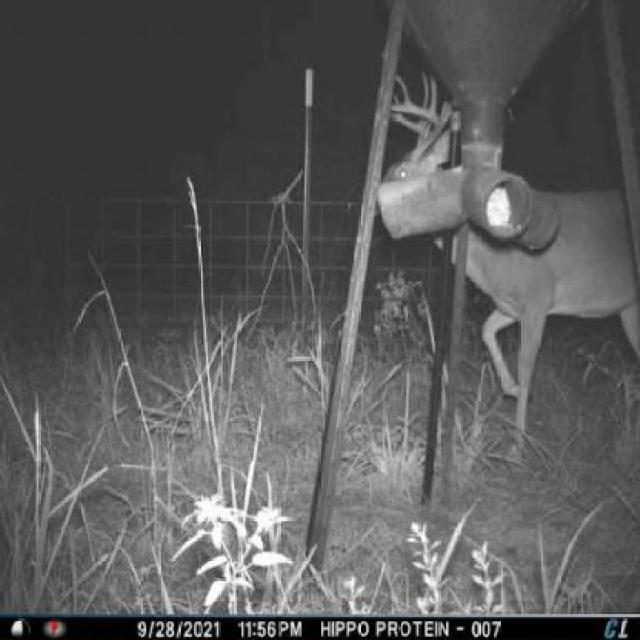Deer: (378, 67, 639, 468)
